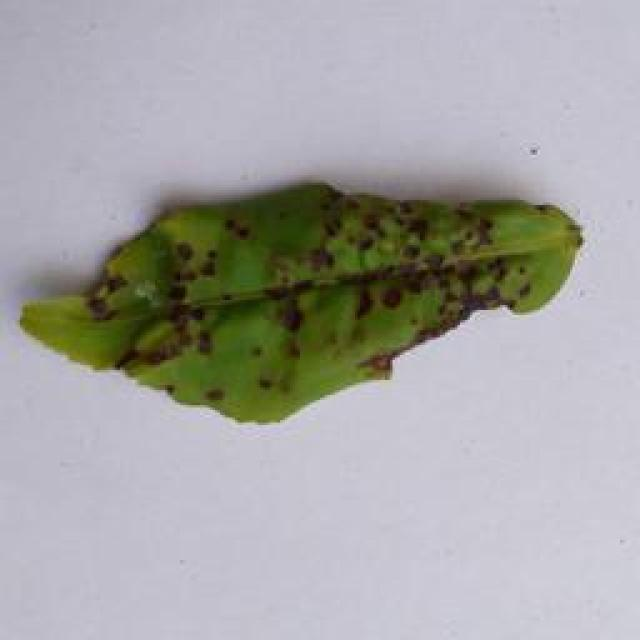Helopeltis: (15, 178, 591, 436)
